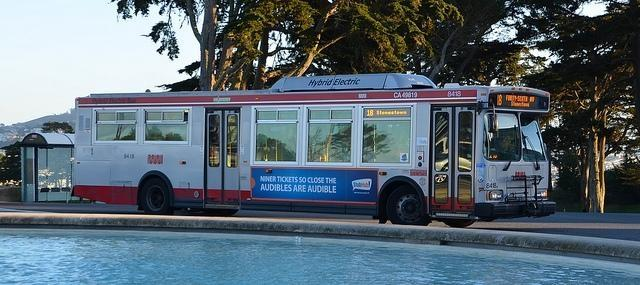bus: (72, 73, 556, 226)
